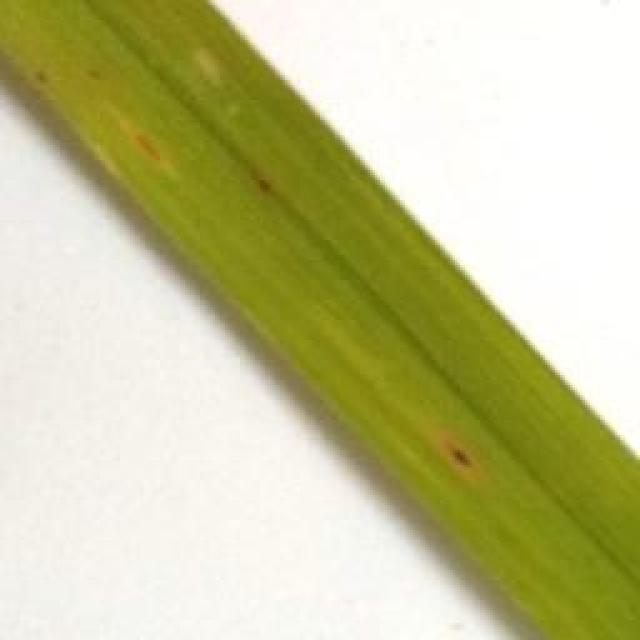Brown_Spot: (119, 120, 191, 195), (440, 431, 495, 484), (250, 153, 290, 210), (30, 64, 60, 100), (75, 52, 111, 82)
